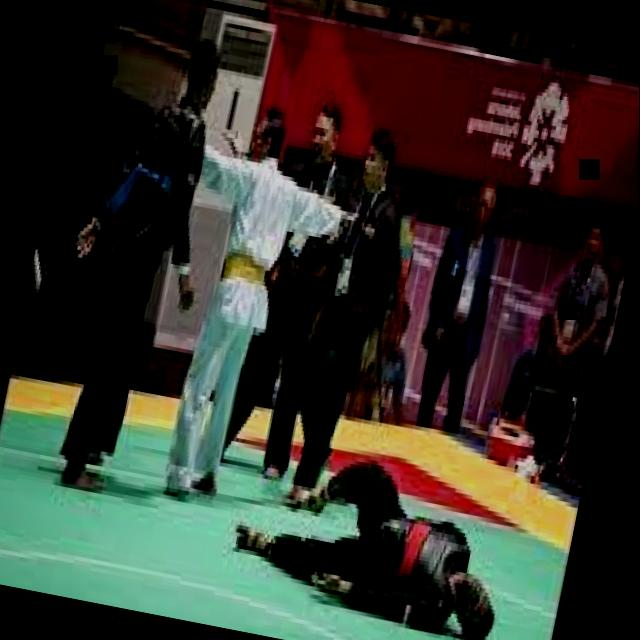Fall-Detected: (224, 403, 541, 640)
